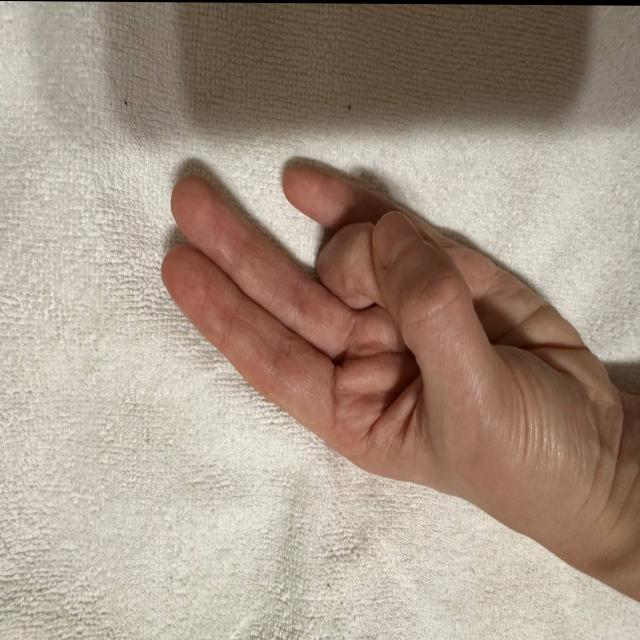n: (127, 158, 593, 499)
